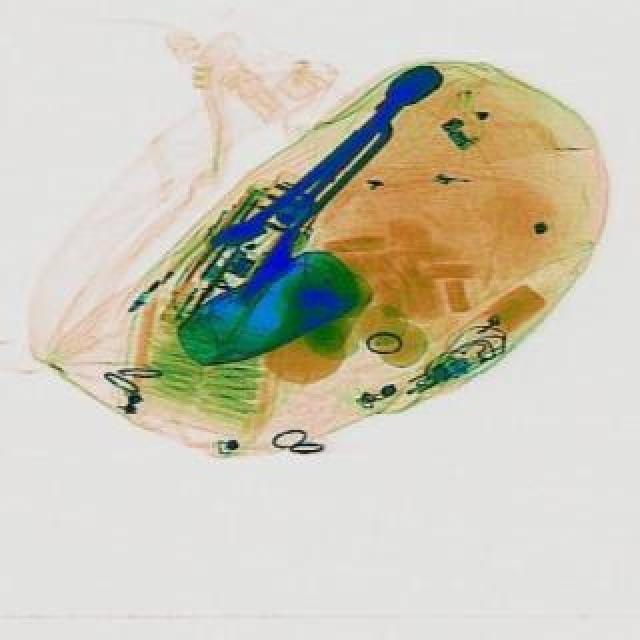scissors: (206, 58, 446, 270)
